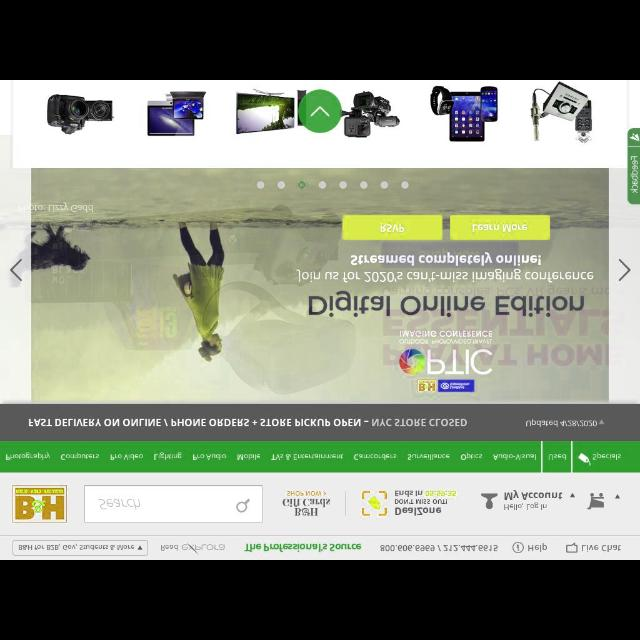button: (300, 88, 342, 132)
icon: (584, 490, 608, 512), (616, 257, 632, 283), (10, 260, 24, 286), (482, 492, 498, 511), (309, 105, 331, 117), (235, 498, 251, 512), (578, 452, 592, 466), (566, 542, 580, 554), (513, 542, 525, 554), (631, 132, 639, 142), (599, 418, 607, 426), (138, 544, 144, 552), (614, 494, 620, 502), (570, 490, 576, 498)
image: (31, 171, 608, 403), (528, 82, 598, 144), (430, 81, 500, 142), (46, 90, 116, 140), (234, 86, 298, 140), (341, 84, 401, 140), (146, 88, 210, 138), (11, 484, 69, 524), (282, 488, 334, 518), (361, 489, 391, 516), (182, 542, 228, 556)
input: (84, 486, 264, 522)
multitab: (1, 442, 639, 472)
pageindicator: (255, 176, 411, 192)
panel: (14, 81, 626, 169), (628, 128, 640, 204)
spinner: (13, 540, 149, 556), (522, 410, 610, 430), (504, 488, 576, 512)
text: (28, 415, 470, 429), (394, 486, 458, 516), (245, 540, 362, 552), (380, 542, 500, 552), (503, 492, 562, 512), (19, 543, 136, 551), (19, 203, 95, 213), (272, 452, 344, 462), (526, 418, 598, 428), (98, 496, 142, 510), (5, 451, 50, 462), (493, 451, 537, 461), (354, 452, 398, 461), (631, 150, 639, 198), (582, 542, 620, 552), (407, 452, 449, 461), (61, 452, 100, 461), (110, 452, 144, 461), (153, 450, 183, 460), (593, 451, 623, 461), (193, 452, 227, 460), (236, 452, 262, 461), (460, 451, 482, 461), (162, 542, 178, 554), (528, 542, 546, 552), (548, 452, 568, 460)
textbutton: (450, 213, 550, 240), (342, 214, 442, 240)
